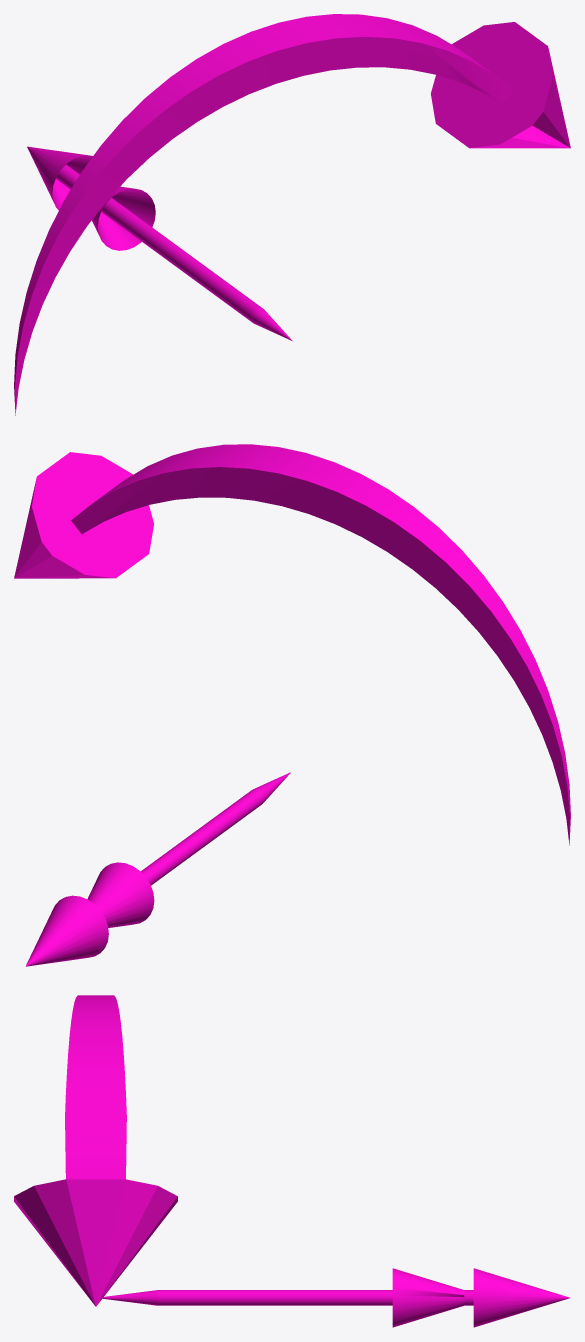
Rendered from Moment Vector by SMR.glb.
The picture shows the model from 3 angles, top to bottom: view 1: azimuth 30°, elevation 25°; view 2: azimuth 150°, elevation 25°; view 3: azimuth 270°, elevation 25°; orthographic projection. The views are drawn at different scales.
Visible parts, largest first — view 1: Geom3D_CurlyArrow-NEW, Geom3D; view 2: Geom3D_CurlyArrow-NEW, Geom3D; view 3: Geom3D_CurlyArrow-NEW, Geom3D.
Boxes of the visible parts, x1=… form: Geom3D_CurlyArrow-NEW: x1=14, y1=14, x2=570, y2=415; Geom3D: x1=27, y1=146, x2=292, y2=341; Geom3D_CurlyArrow-NEW: x1=14, y1=444, x2=570, y2=845; Geom3D: x1=25, y1=772, x2=290, y2=966; Geom3D_CurlyArrow-NEW: x1=14, y1=995, x2=177, y2=1306; Geom3D: x1=103, y1=1268, x2=570, y2=1327.
Size of the model in its own units: 0.4269 by 0.2486 by 0.415.
